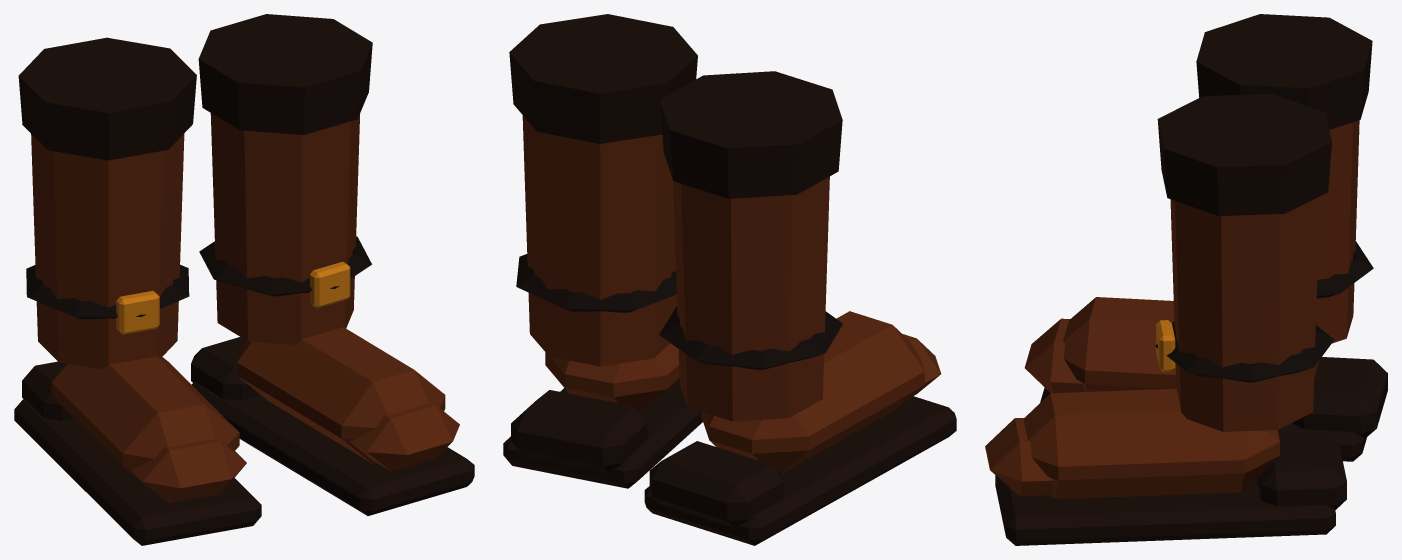
Rendered from Item_LeatherBoots.fbx.
3 views of the same model, side by side, from view 1: azimuth 30°, elevation 25°; view 2: azimuth 150°, elevation 25°; view 3: azimuth 270°, elevation 25° (orthographic). The views are drawn at different scales.
Parts seen in each view (by area): view 1: Item_LeatherBoots; view 2: Item_LeatherBoots; view 3: Item_LeatherBoots.
Part boxes in pixels (<box>): Item_LeatherBoots: <box>14,14,474,545</box>; Item_LeatherBoots: <box>503,14,956,545</box>; Item_LeatherBoots: <box>985,14,1387,545</box>.
Bounding box in the file's own units: 0.2863 × 0.317 × 0.3041.
